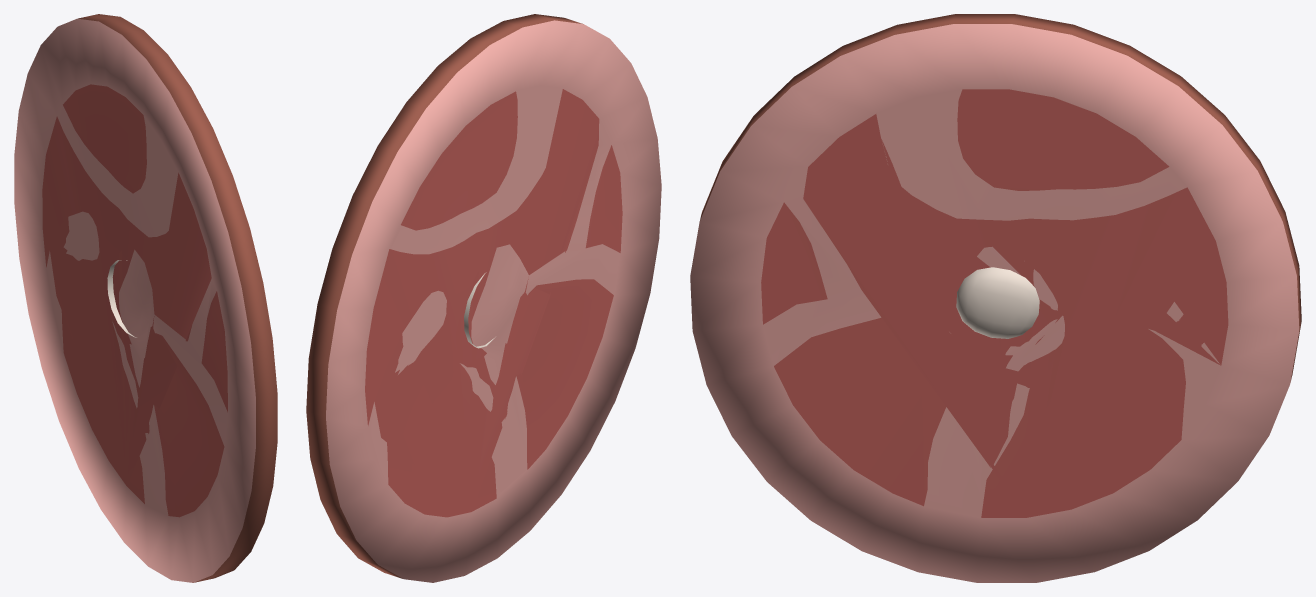
File: jam_cut.fbx
The picture shows the model from 3 angles, left to right: view 1: azimuth 30°, elevation 25°; view 2: azimuth 150°, elevation 25°; view 3: azimuth 270°, elevation 25°; orthographic projection. The views are drawn at different scales.
Parts seen in each view (by area): view 1: Cylindre.005, Cube.003; view 2: Cylindre.005; view 3: Cylindre.005, Cube.003.
Boxes of the visible parts, box(x1,y1,x2,y2) form: Cylindre.005: box(14, 14, 277, 582); Cube.003: box(107, 260, 136, 337); Cylindre.005: box(306, 14, 661, 582); Cylindre.005: box(690, 14, 1301, 582); Cube.003: box(956, 267, 1039, 338).
Bounding box in the file's own units: 29.83 × 223 × 223.
